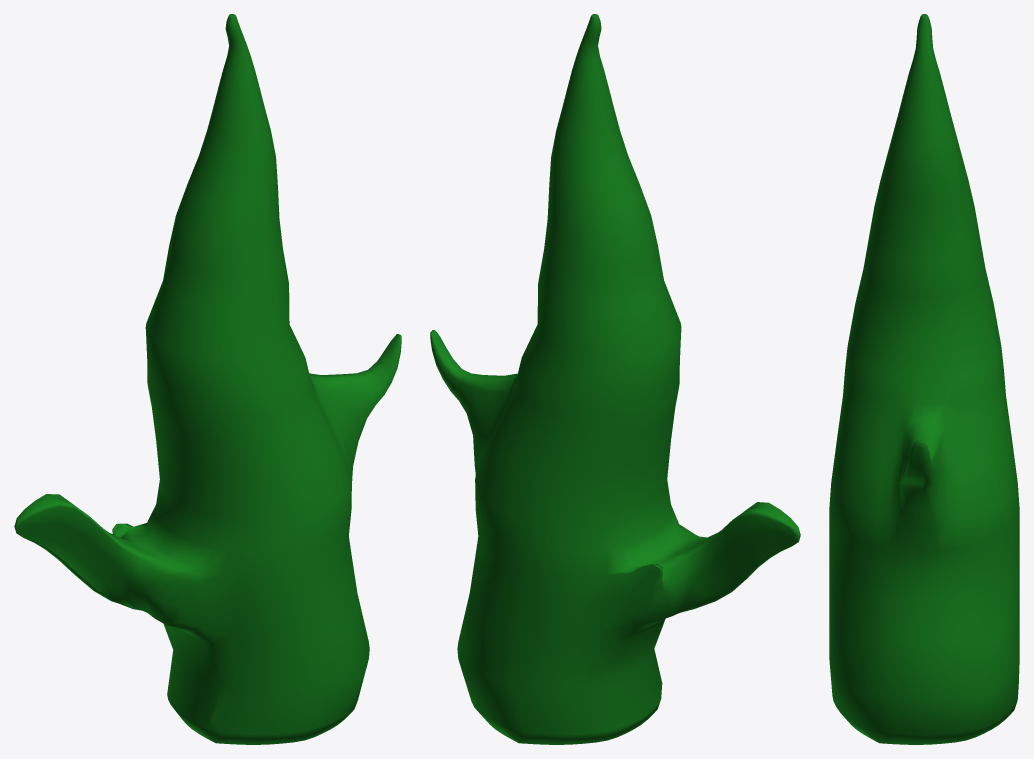
Rendered from Baobabs.obj.
3 renders of one model, left to right at view 1: azimuth 30°, elevation 25°; view 2: azimuth 150°, elevation 25°; view 3: azimuth 270°, elevation 25°, orthographic. The views are drawn at different scales.
Parts seen in each view (by area): view 1: pDisc1; view 2: pDisc1; view 3: pDisc1.
Part boxes in pixels (x1,y1,x2,y2): pDisc1: (14,14,401,744); pDisc1: (430,14,800,744); pDisc1: (829,14,1019,744).
Size of the model in its own units: 0.7404 by 1.31 by 0.3332.
